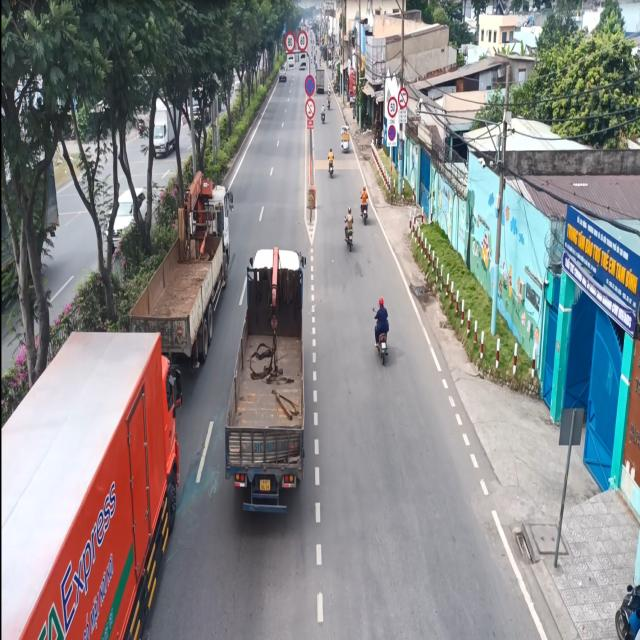motor: (371, 294, 392, 366), (342, 200, 358, 259), (356, 181, 371, 223)
truck: (0, 311, 188, 640), (121, 167, 242, 372), (225, 230, 305, 539)
